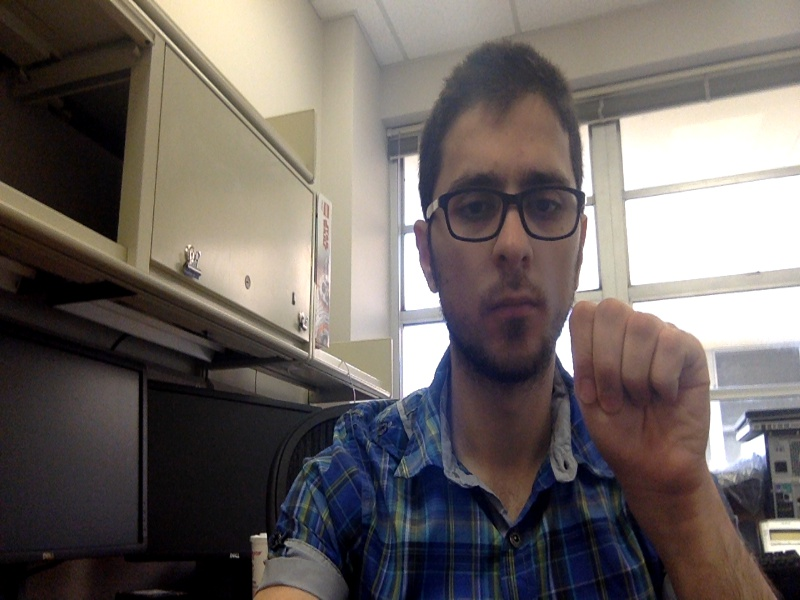0-hand: (571, 300, 710, 488)
